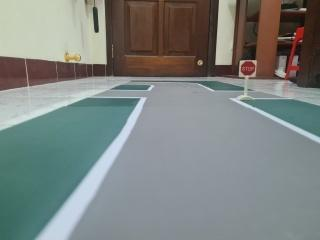stop: (239, 61, 258, 82)
